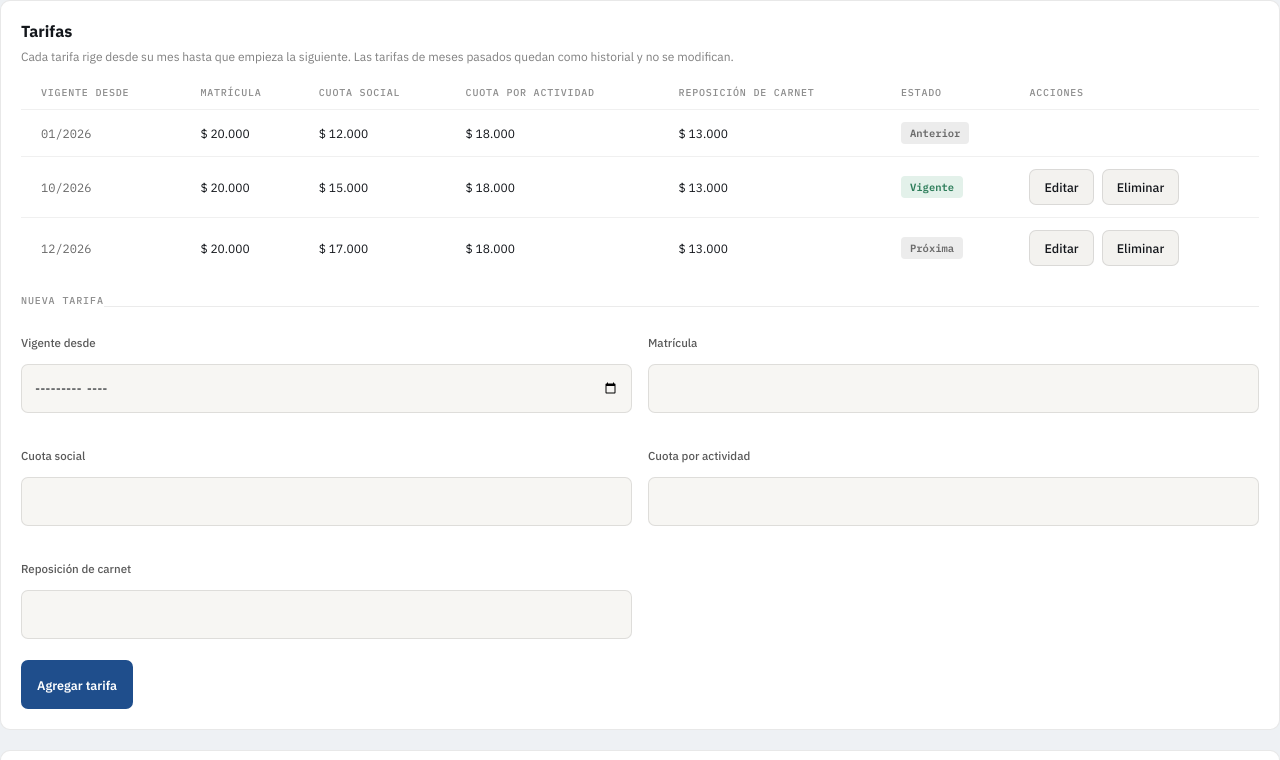
Test: PricingView › edits a future tariff in place, with its date fixed
Expected: the table named "Tarifas" is shown, [21, 76, 1259, 278]
Click the button with aria-label "Editar tarifa 12/2026".
click(1062, 248)  # box [1029, 230, 1094, 266]
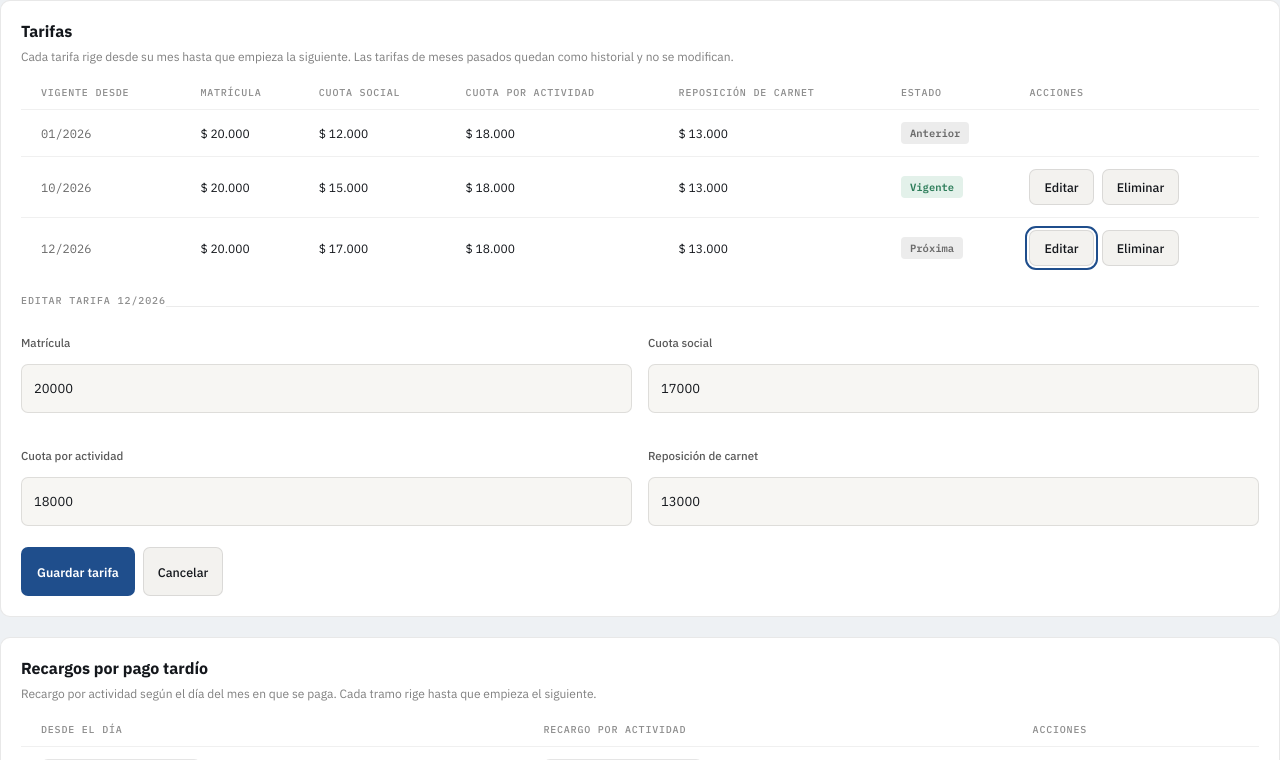
Expected: the field labelled "Cuota social" holds "17000"
Replace the text in the field labelled "Cuota social" with "19000" at (954, 388), box [648, 364, 1259, 413]
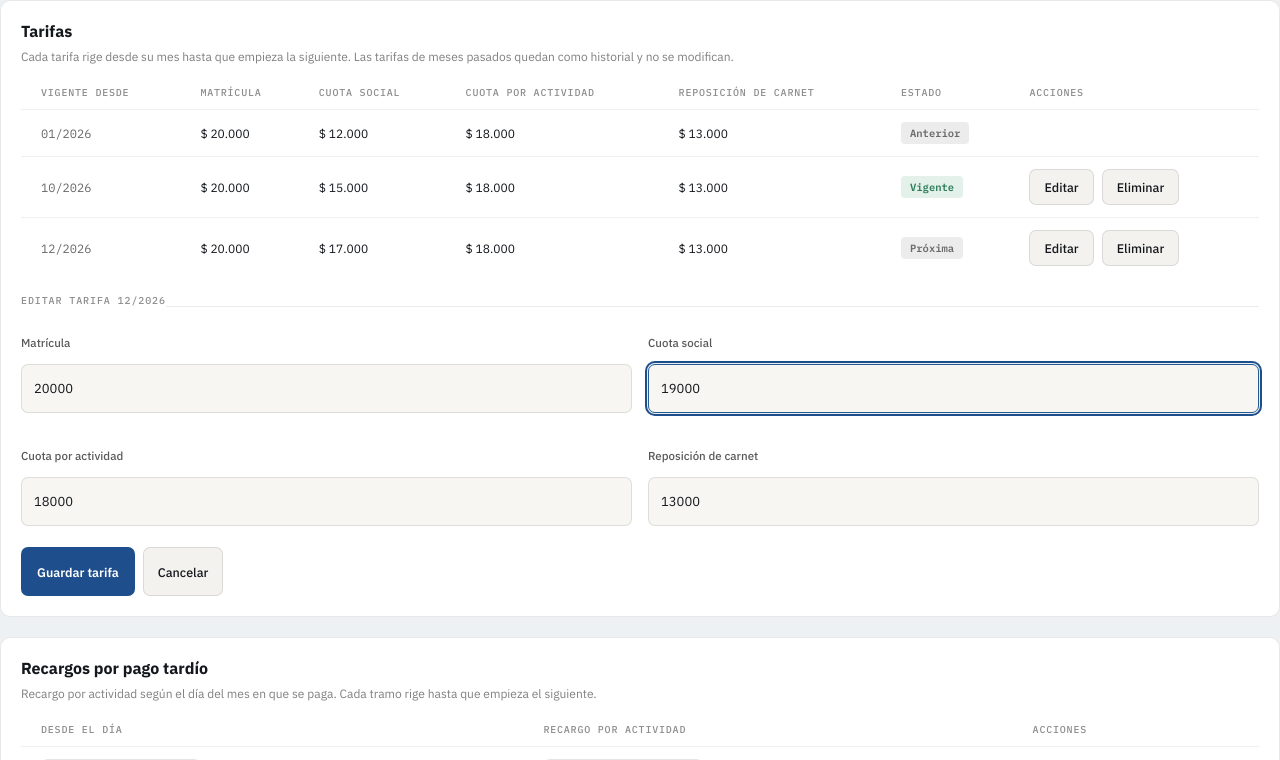
Click the button "Guardar tarifa".
click(78, 572)  # box [21, 547, 135, 596]
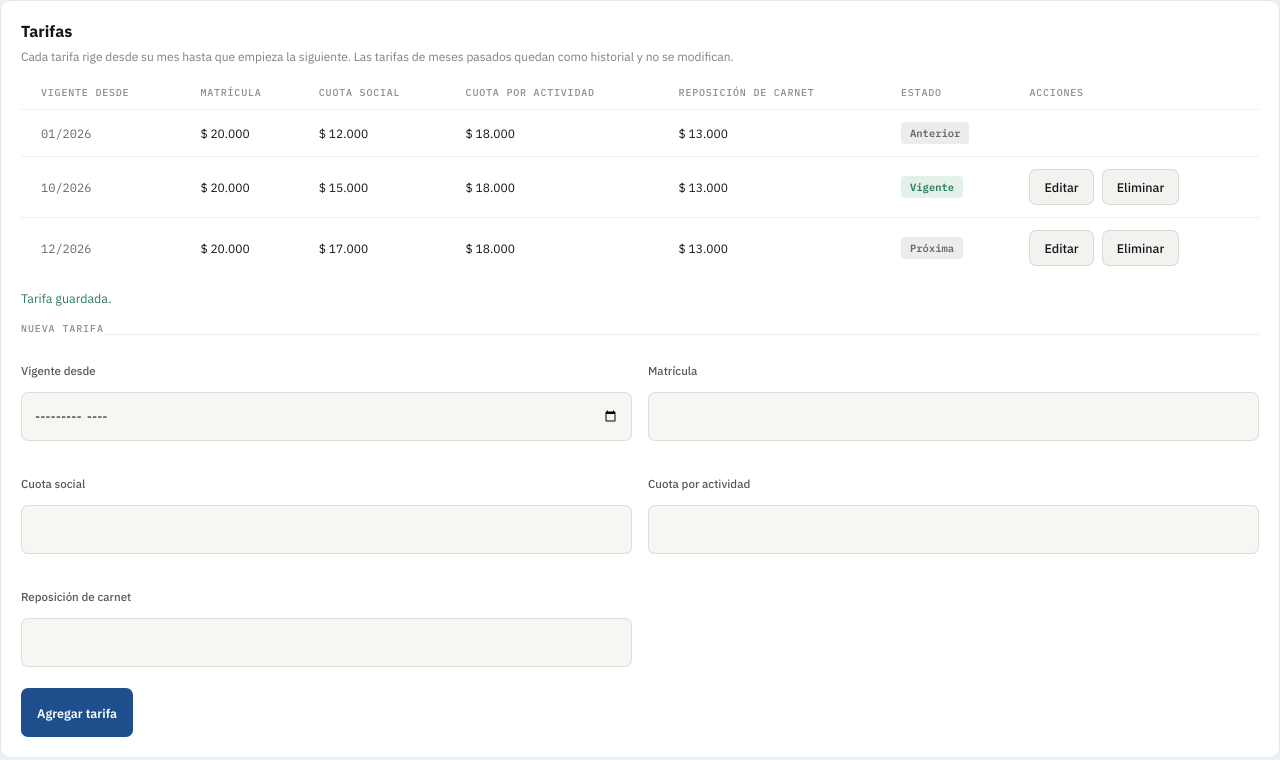
Expected: the message reads "Tarifa guardada.", [21, 290, 112, 306]
